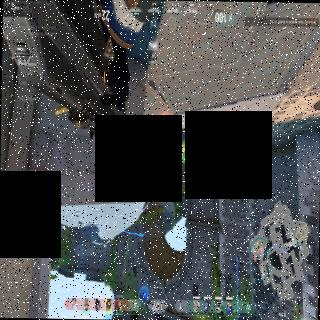ENEMY-HEAD: (163, 164, 166, 168)
